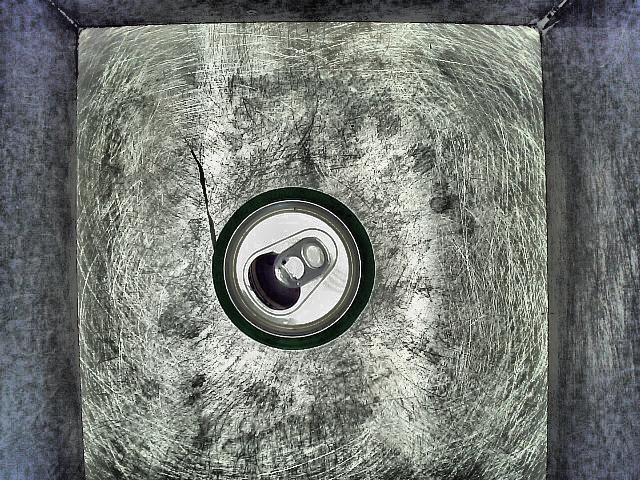Bottles: (198, 168, 385, 363)
